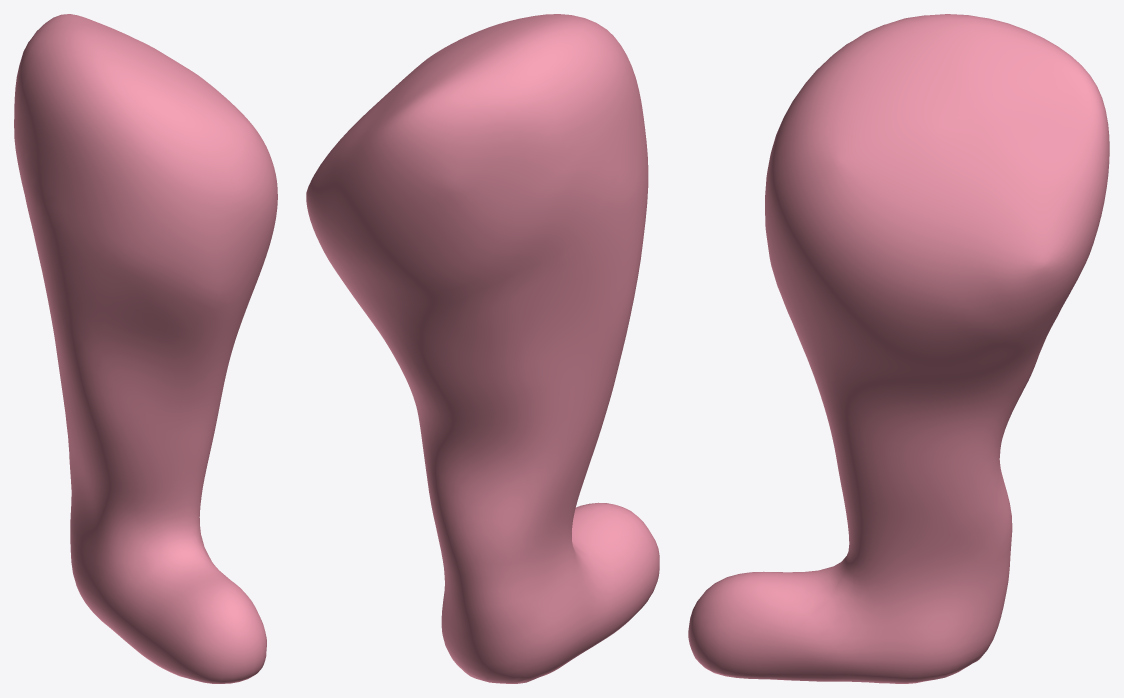
The model's file is Leg_R_Human.fbx.
3 renders of one model, left to right at view 1: azimuth 30°, elevation 25°; view 2: azimuth 150°, elevation 25°; view 3: azimuth 270°, elevation 25°, orthographic. The views are drawn at different scales.
Parts seen in each view (by area): view 1: ObjRLeg.001; view 2: ObjRLeg.001; view 3: ObjRLeg.001.
Boxes of the visible parts, x1,y1,x2,y2 form: ObjRLeg.001: [14, 14, 277, 683]; ObjRLeg.001: [306, 14, 659, 683]; ObjRLeg.001: [688, 14, 1109, 683].
Size of the model in its own units: 54.09 by 130 by 79.7.
